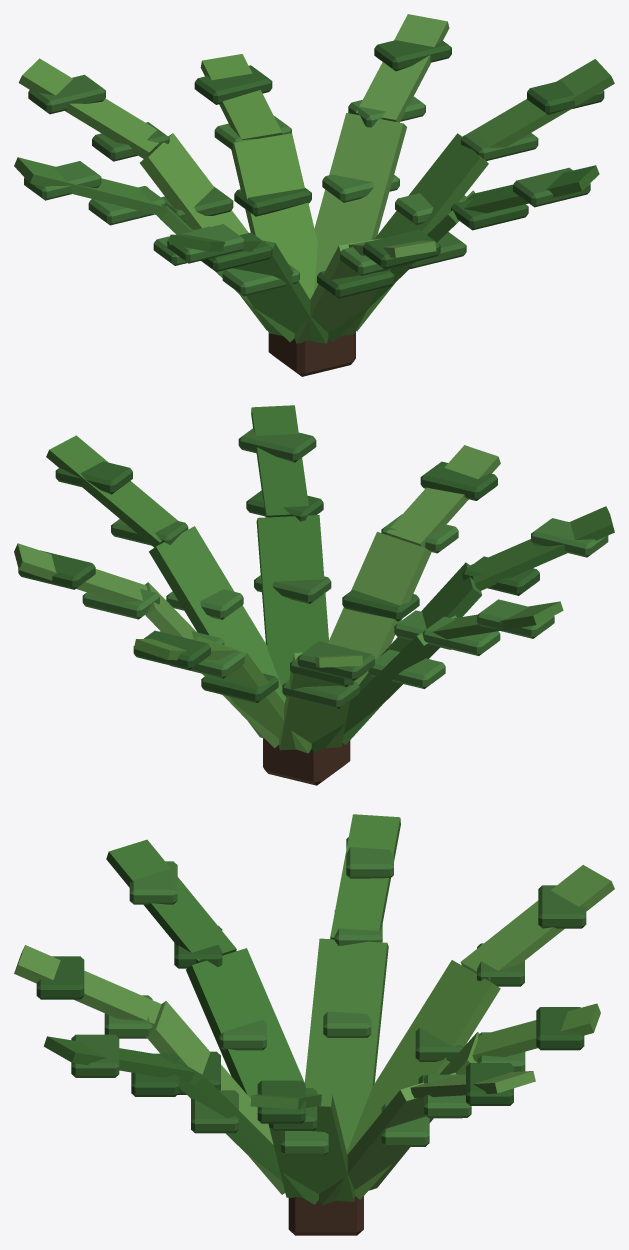
File: Fern.glb
3 renders of one model, top to bottom at view 1: azimuth 30°, elevation 25°; view 2: azimuth 150°, elevation 25°; view 3: azimuth 270°, elevation 25°, orthographic. The views are drawn at different scales.
Visible parts, largest first — view 1: Body; view 2: Body; view 3: Body.
Part boxes in pixels (x1,y1,x2,y2): Body: [14, 14, 614, 376]; Body: [14, 405, 614, 785]; Body: [14, 814, 614, 1235].
Size of the model in its own units: 5.03 by 2.17 by 4.39.
